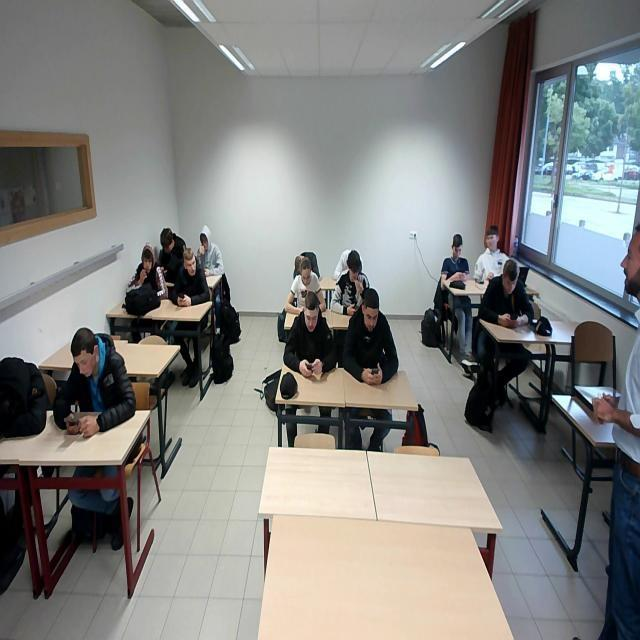phone_use: (53, 326, 133, 436), (342, 287, 396, 383), (282, 291, 334, 375), (477, 259, 532, 323), (330, 249, 367, 314), (439, 233, 467, 287), (157, 227, 184, 281)
